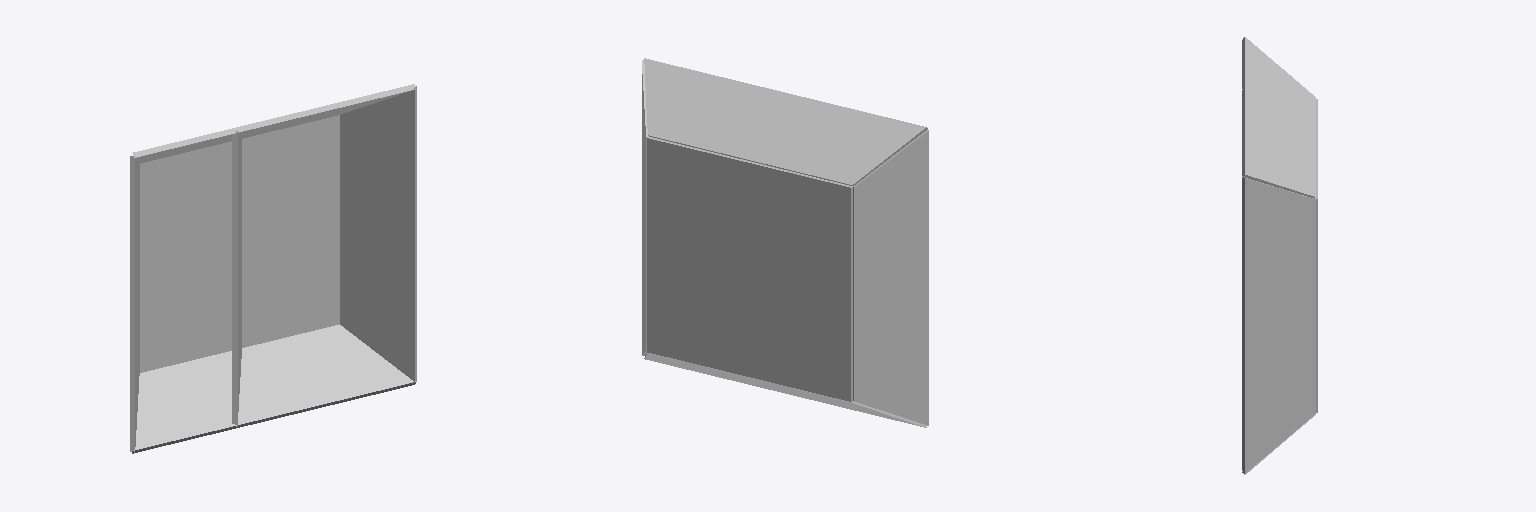
The model's file is tray.obj.
3 views of the same model, side by side, from view 1: azimuth 30°, elevation 25°; view 2: azimuth 150°, elevation 25°; view 3: azimuth 270°, elevation 25° (orthographic).
Visible parts, largest first — view 1: base_Cube.004, edge_2_Cube, edge_3_Cube.002, edge_1_Cube.003, edge_5_Cube.005, edge_4_Cube.001; view 2: base_Cube.004, edge_4_Cube.001, edge_1_Cube.003, edge_3_Cube.002, edge_2_Cube; view 3: edge_2_Cube, edge_1_Cube.003, base_Cube.004.
Boxes of the visible parts, x1=… form: base_Cube.004: x1=140, y1=115, x2=339, y2=372; edge_2_Cube: x1=340, y1=86, x2=416, y2=383; edge_3_Cube.002: x1=132, y1=324, x2=415, y2=453; edge_1_Cube.003: x1=132, y1=84, x2=415, y2=163; edge_5_Cube.005: x1=232, y1=131, x2=241, y2=426; edge_4_Cube.001: x1=130, y1=156, x2=139, y2=451; base_Cube.004: x1=647, y1=137, x2=852, y2=401; edge_4_Cube.001: x1=853, y1=129, x2=928, y2=425; edge_1_Cube.003: x1=644, y1=58, x2=927, y2=185; edge_3_Cube.002: x1=644, y1=352, x2=926, y2=427; edge_2_Cube: x1=642, y1=60, x2=648, y2=355; edge_2_Cube: x1=1242, y1=176, x2=1315, y2=473; edge_1_Cube.003: x1=1242, y1=37, x2=1315, y2=198; base_Cube.004: x1=1315, y1=99, x2=1317, y2=412.
Size of the model in its own units: 1.18 by 1.18 by 0.2712.